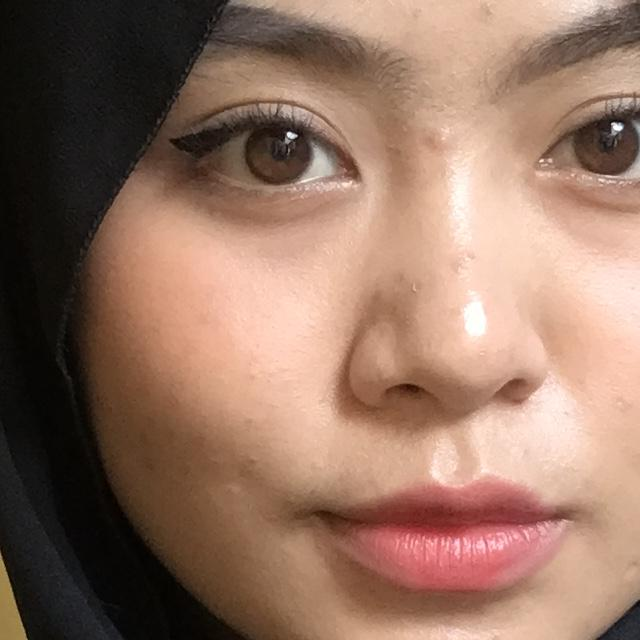kapan: (0, 376, 355, 640)
